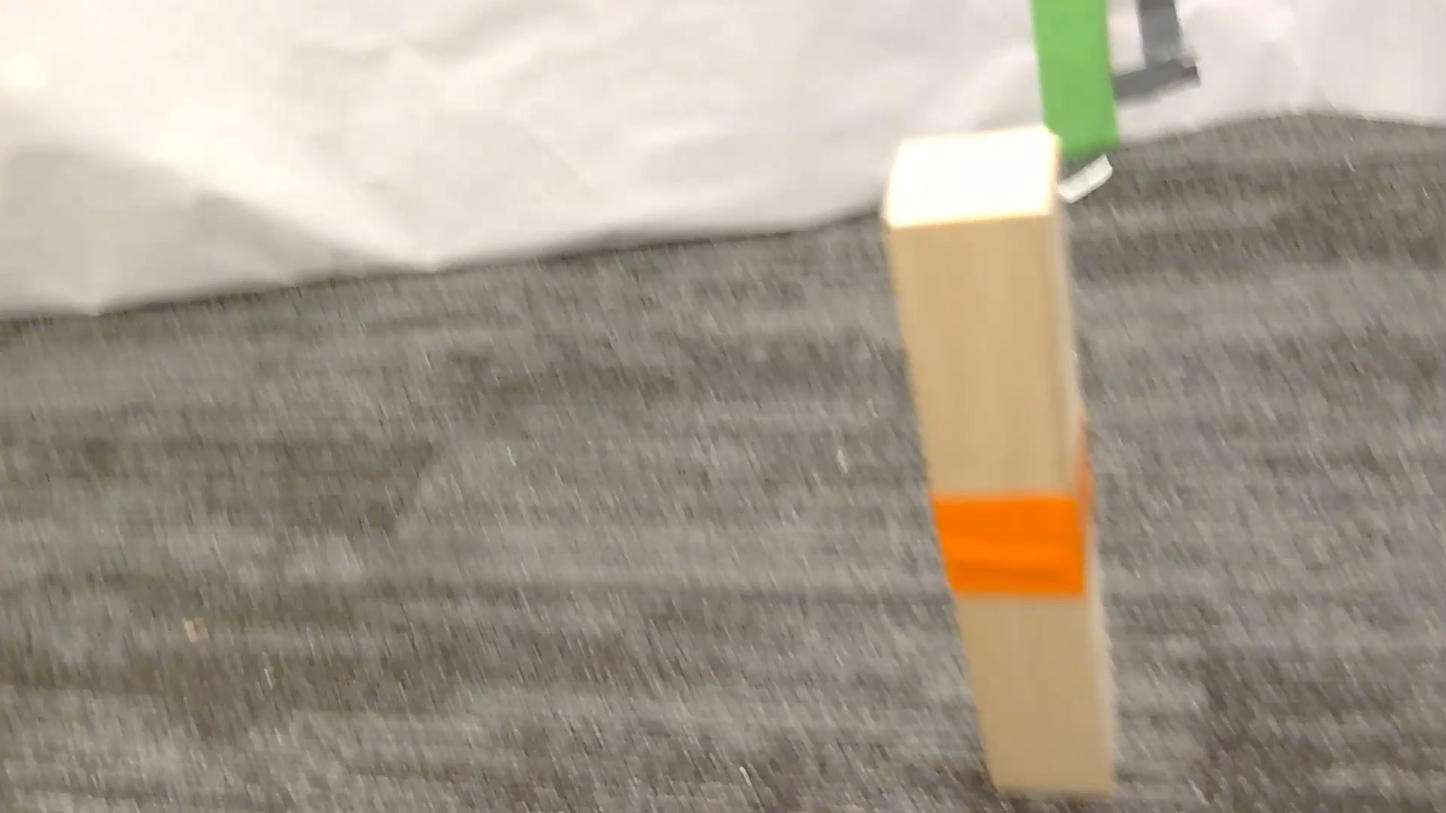Wooden Block: (883, 126, 1115, 796)
